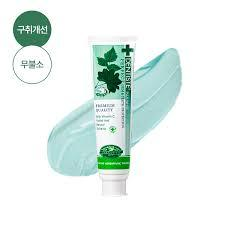toothpaste: (88, 40, 139, 201)
